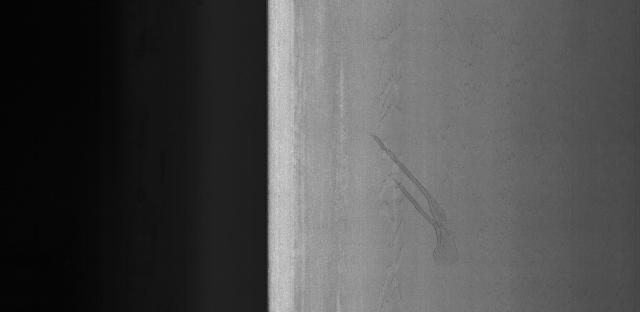water_spot: (362, 121, 478, 275)
